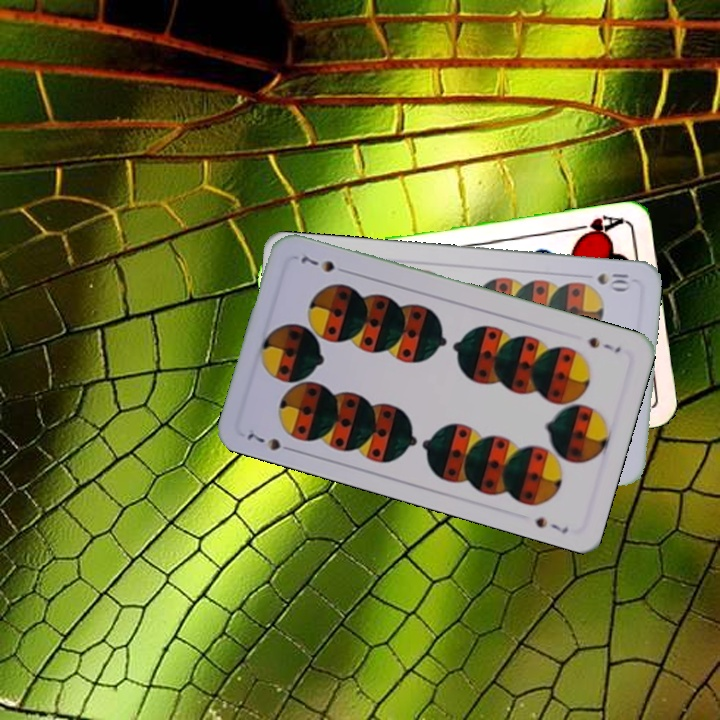HA: (568, 211, 627, 242)
S10: (593, 269, 633, 292)
S7: (243, 429, 298, 455), (584, 333, 624, 355)
